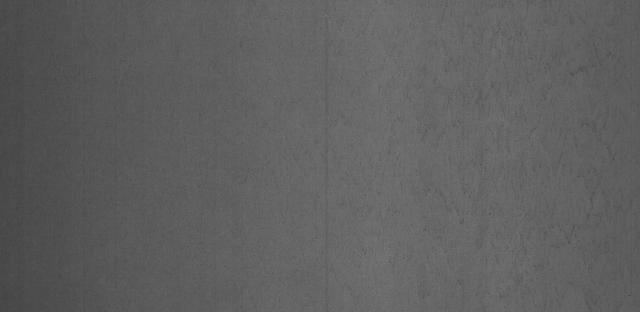silk_spot: (357, 12, 634, 289)
